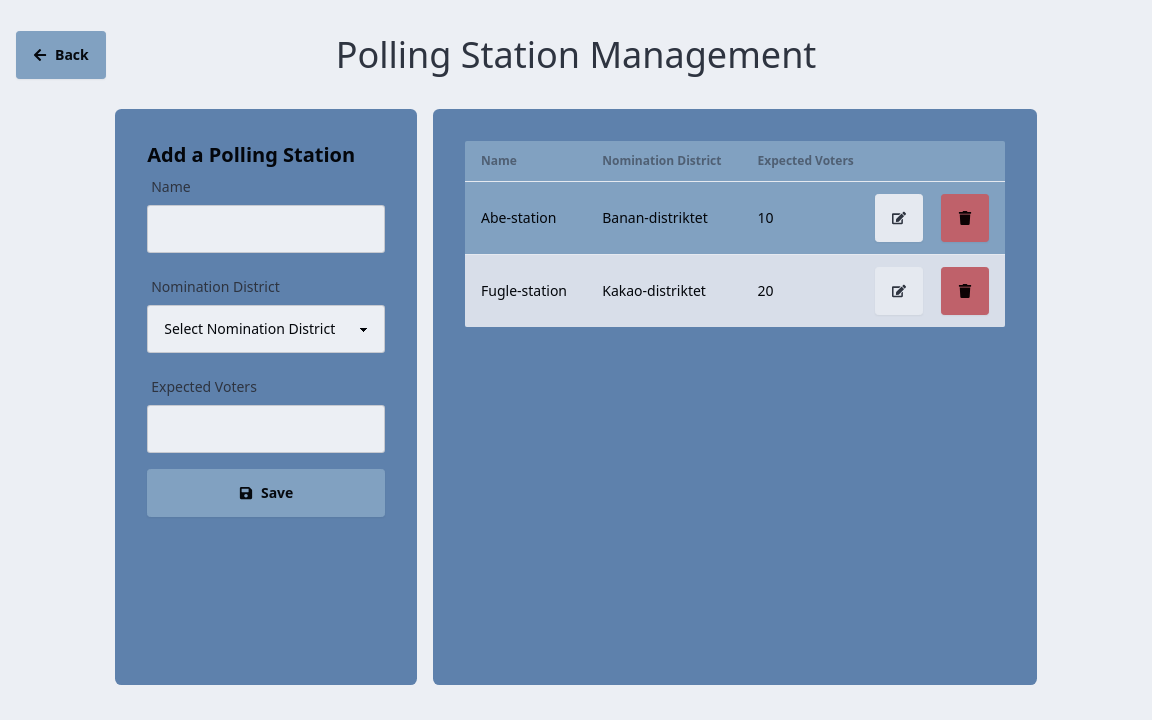
Test: PollingStationScreen › should delete an object from the list with multiple elements
The width and height of the screenshot is (1152, 720).
Step 1. Click the 1st button with class "btn-error" → click(965, 218), box 941,194 -> 989,242
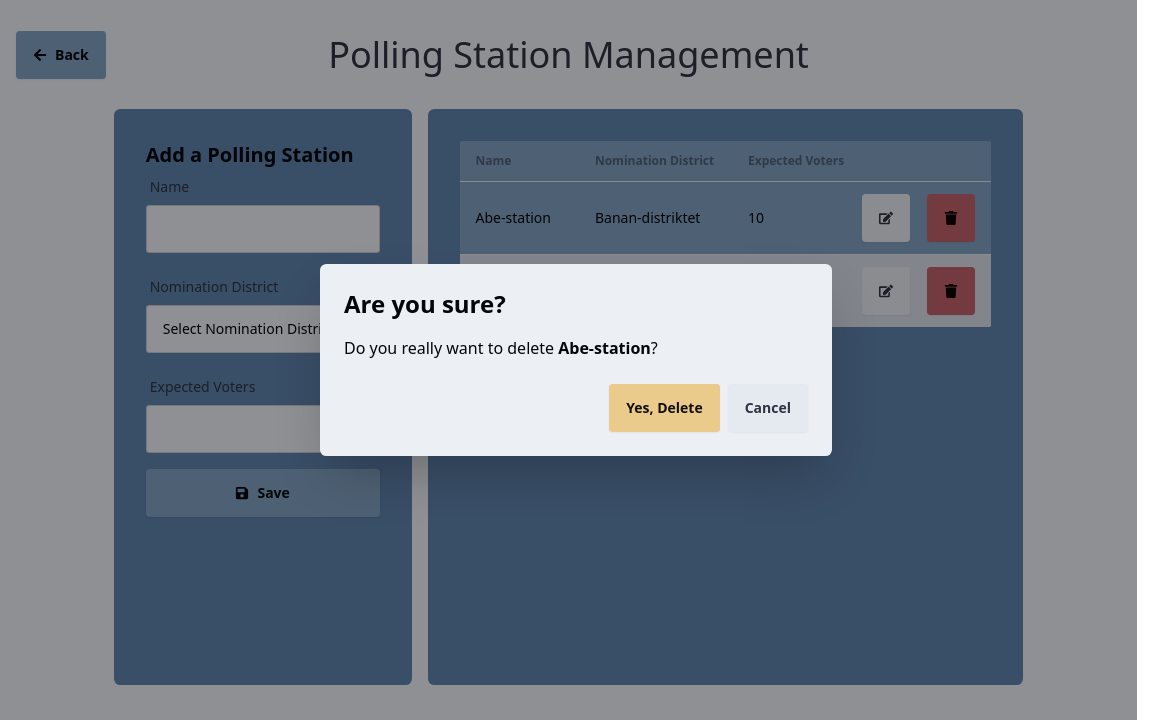
Check: the element with class "modal-open" is shown
Check: the heading with class "modal-box" reads "Are you sure?", box 344,287 -> 506,320
Check: the element with class "modal-box" reads "Do you really want to delete Abe-station?", box 344,337 -> 658,359
Step 2. Click the button with class "btn-warning" → click(664, 408), box 609,384 -> 719,432
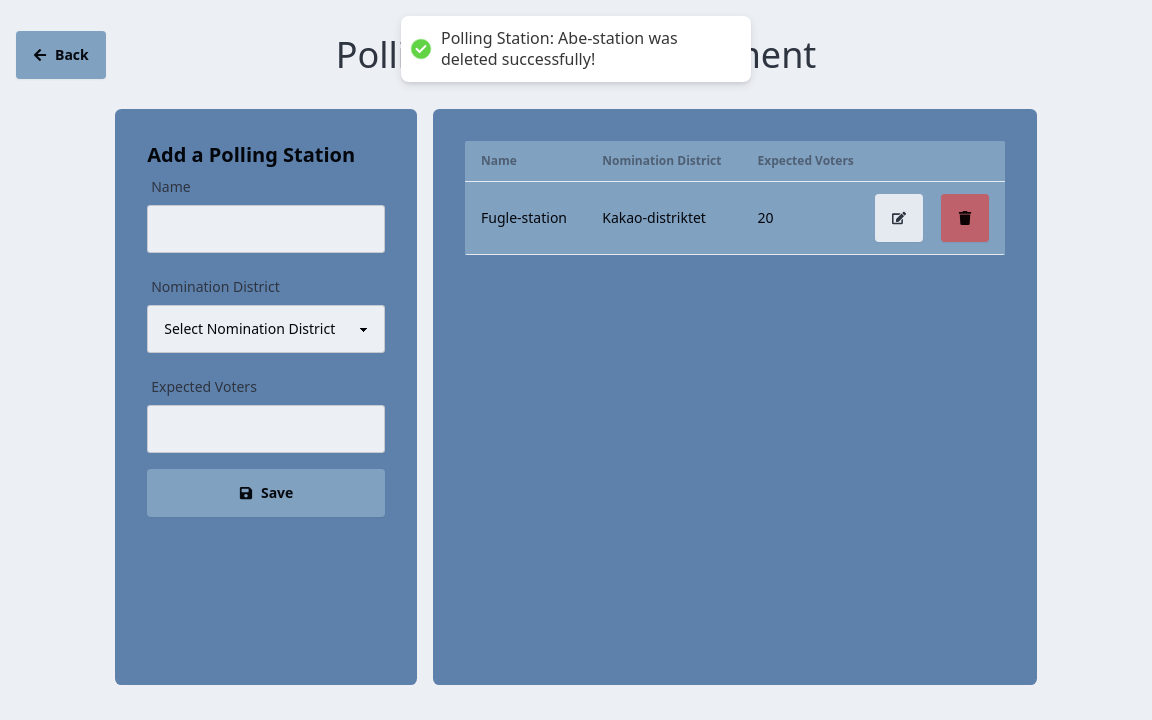
Check: the cell "Fugle-station" is shown, box 465,182 -> 586,255
Check: the text "Polling Station: Abe-station was deleted successfully!" is shown, box 441,27 -> 678,70
